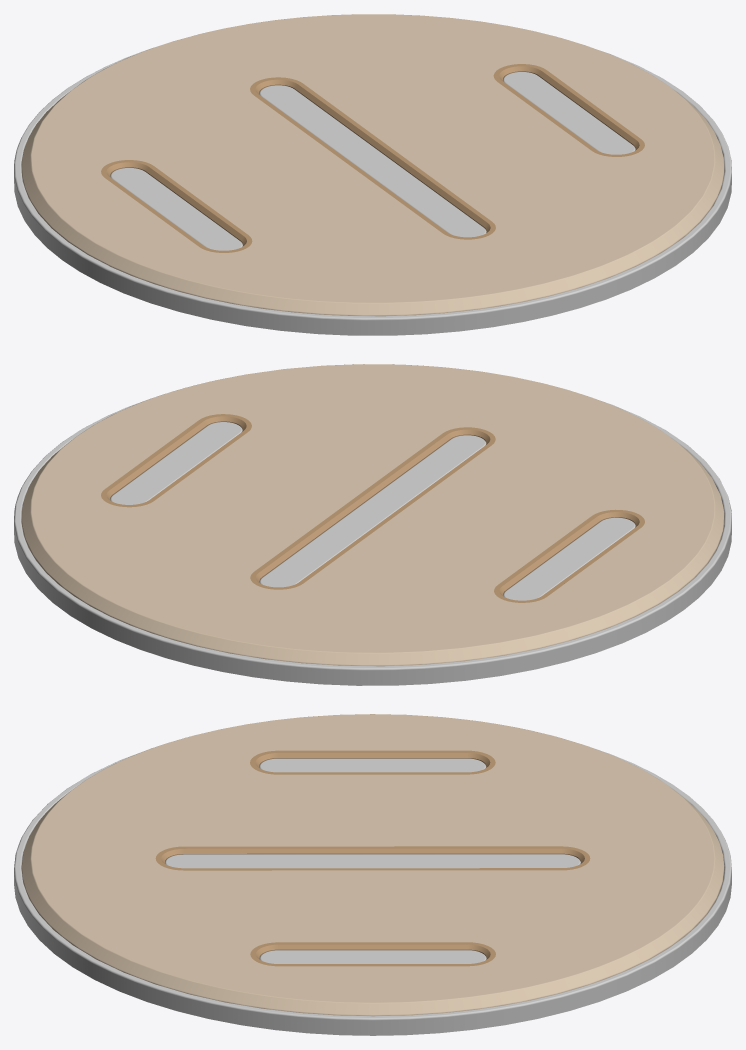
Rendered from Stage_Spin.glb.
3 renders of one model, top to bottom at view 1: azimuth 30°, elevation 25°; view 2: azimuth 150°, elevation 25°; view 3: azimuth 270°, elevation 25°, orthographic.
Parts seen in each view (by area): view 1: Body7.001, Body8.001, Body3.003, Body4.003, Body1.004, Body2.004, Body6.001, Body5.003; view 2: Body7.001, Body8.001, Body3.003, Body4.003, Body1.004, Body2.004, Body5.003, Body6.001; view 3: Body7.001, Body8.001, Body3.003, Body4.003, Body1.004, Body2.004, Body5.003, Body6.001.
Part boxes in pixels (x1,y1,x2,y2): Body7.001: (21,14,724,316); Body8.001: (14,49,731,335); Body3.003: (259,85,486,237); Body4.003: (250,77,495,239); Body1.004: (110,168,242,250); Body2.004: (503,72,635,154); Body6.001: (101,160,252,252); Body5.003: (493,64,644,156); Body7.001: (21,364,724,666); Body8.001: (14,398,731,685); Body3.003: (259,435,486,587); Body4.003: (250,427,495,589); Body1.004: (503,517,635,600); Body2.004: (110,422,242,504); Body5.003: (101,414,251,507); Body6.001: (494,509,644,602); Body7.001: (21,714,724,1016); Body8.001: (14,748,731,1035); Body3.003: (165,854,580,868); Body4.003: (155,846,590,870); Body1.004: (259,758,486,772); Body2.004: (259,950,486,963); Body5.003: (250,942,495,966); Body6.001: (250,750,495,774).
Bounding box in the file's own units: 2.23 × 0.0879 × 2.23.
